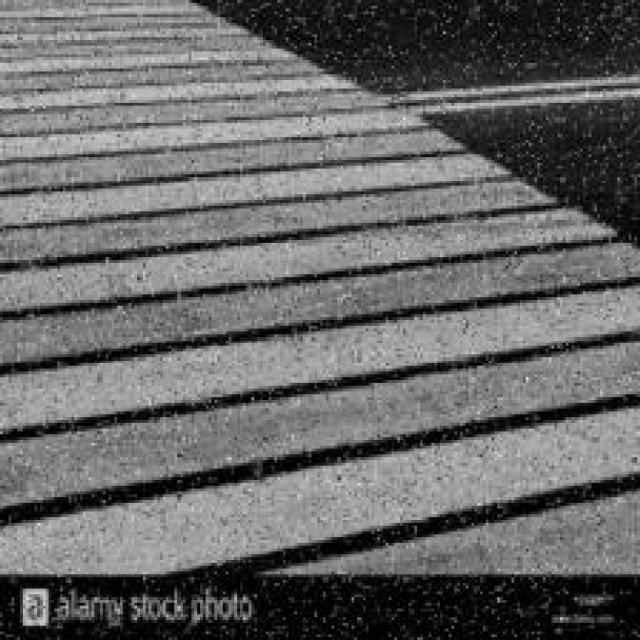crosswalk: (8, 1, 640, 579)
